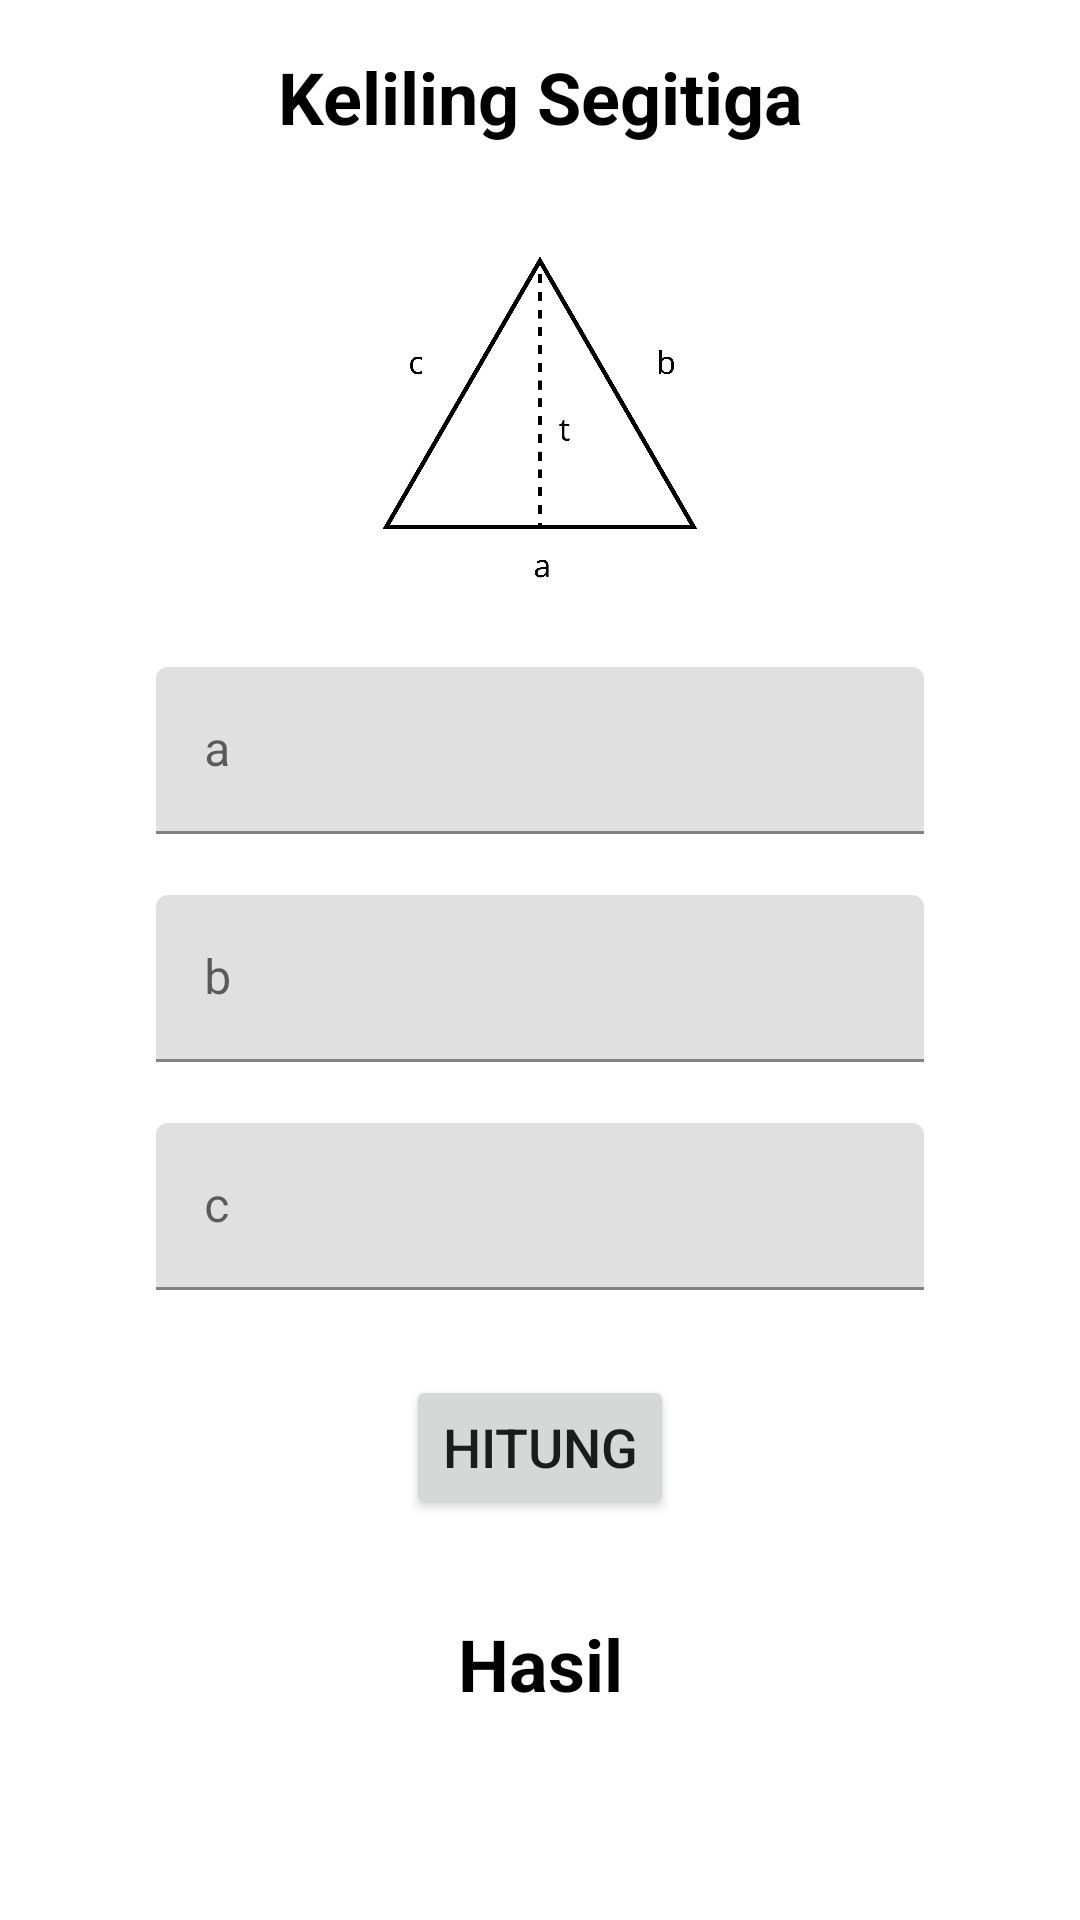

Where to tap for icons on this 1080w x 1920h app screen, as (x,y):
cal segitiga: (540,417)
